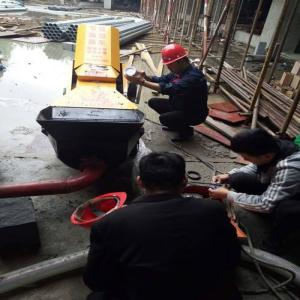none: (137, 151, 190, 201), (231, 127, 280, 167)
red: (159, 44, 190, 74)
